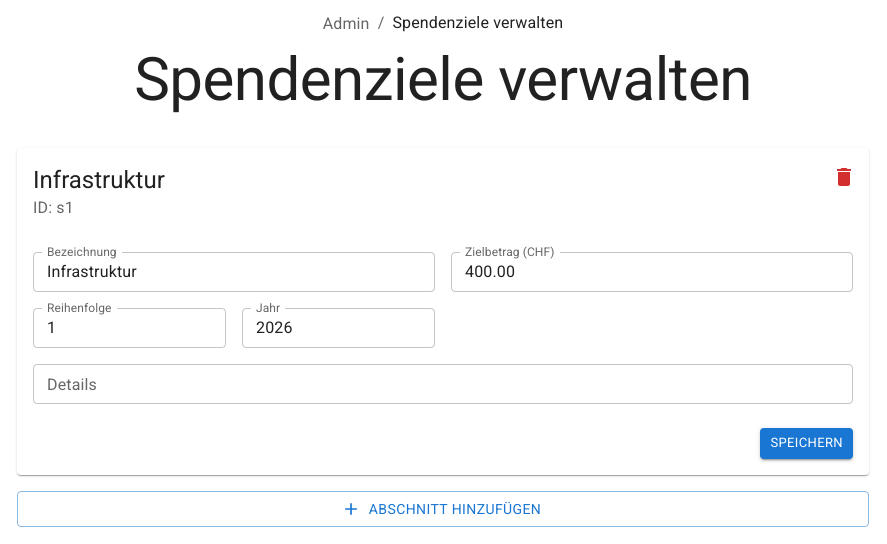
Test: DonationGoalsPage — Numerische Felder › kappt eine negativ eingegebene Reihenfolge auf 0
Replace the text in the number field labelled "Reihenfolge" with "-3" at (130, 328), box x1=33 y1=308 x2=226 y2=348
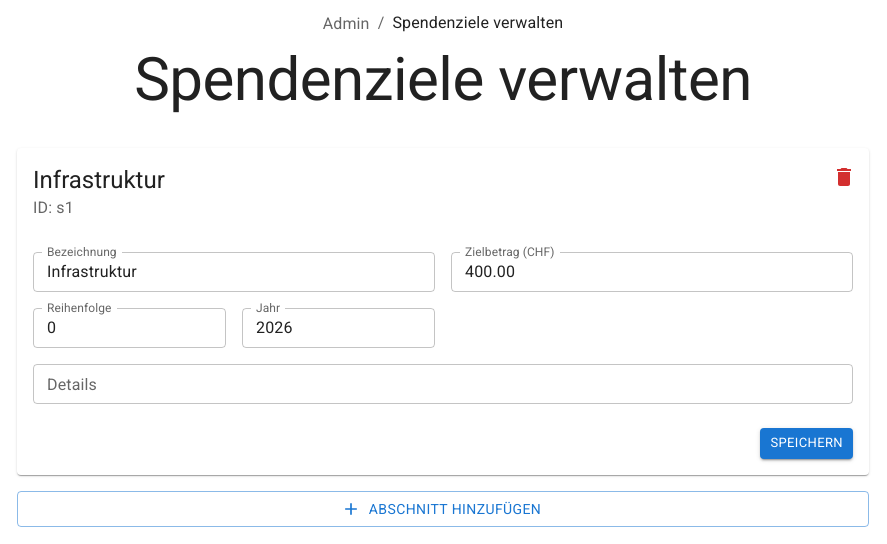
Now the number field labelled "Reihenfolge" holds "0", box x1=33 y1=308 x2=226 y2=348
